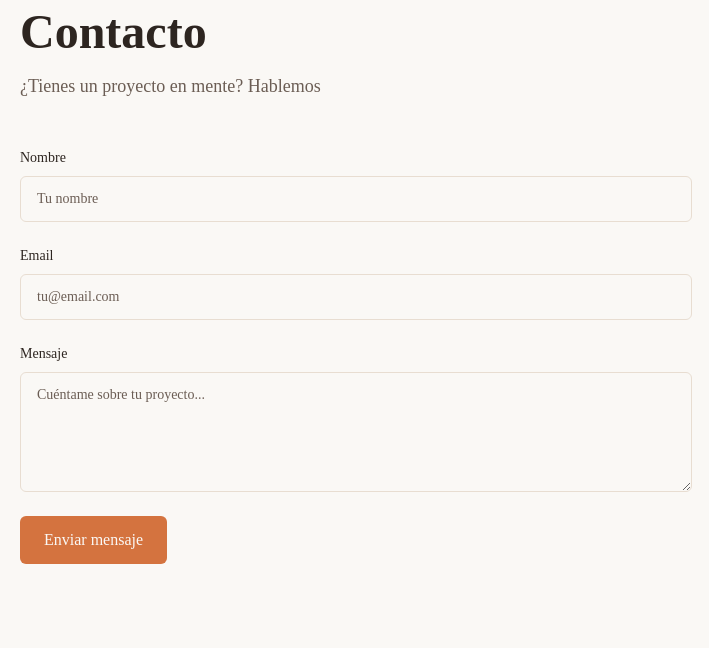
Test: Contact Section › Validation › should show error when name is empty
Click the button "Enviar mensaje": (94, 540) [20,516,167,564]
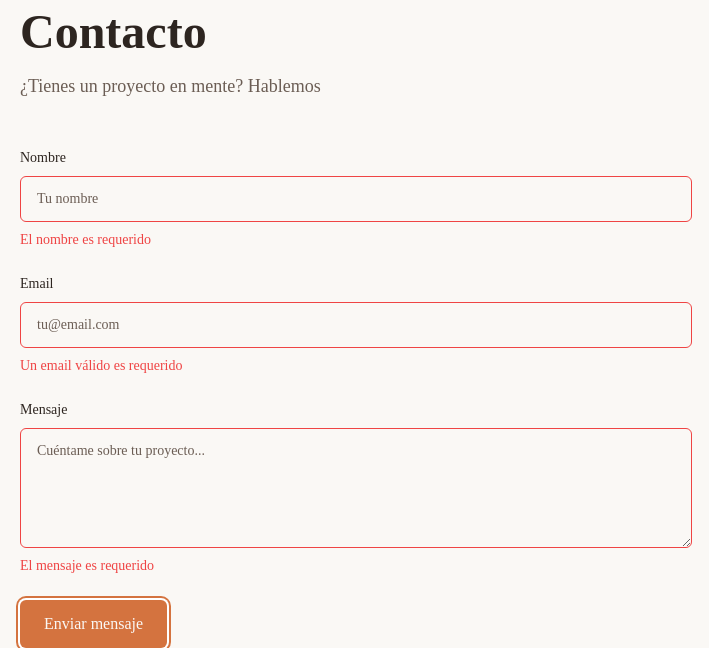
expect the text "El nombre es requerido" is shown: met, box [20,232,151,247]
